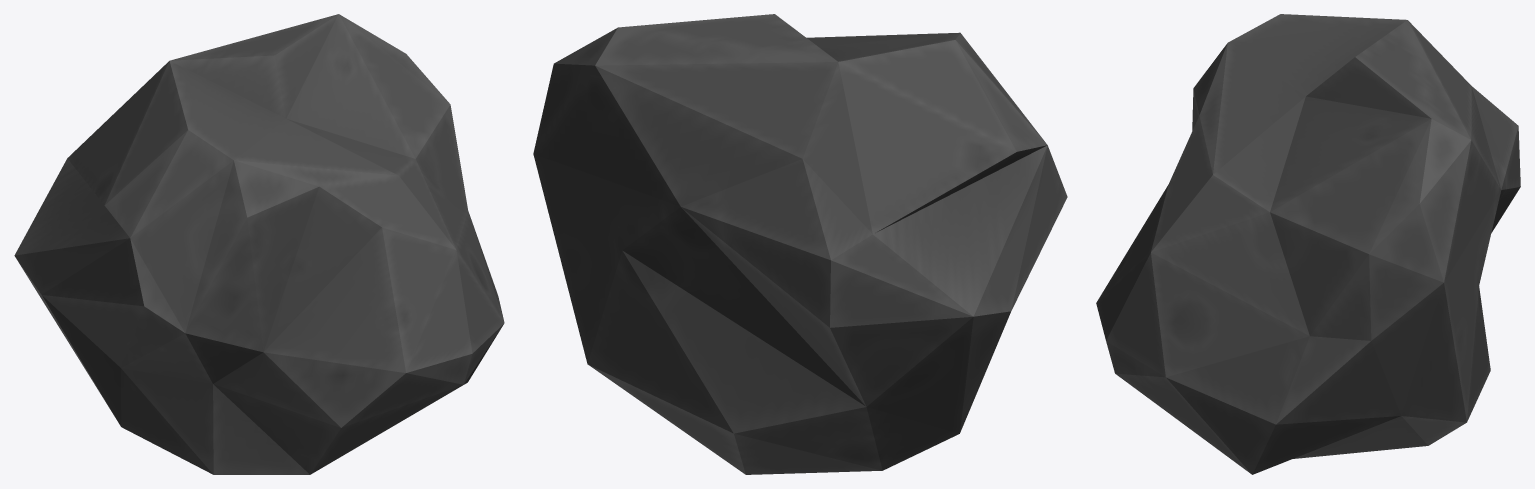
The model's file is asteroid6.glb.
The picture shows the model from 3 angles, left to right: view 1: azimuth 30°, elevation 25°; view 2: azimuth 150°, elevation 25°; view 3: azimuth 270°, elevation 25°; orthographic projection. The views are drawn at different scales.
Parts seen in each view (by area): view 1: Asteroids_Mesh.006; view 2: Asteroids_Mesh.006; view 3: Asteroids_Mesh.006.
Boxes of the visible parts, x1=… form: Asteroids_Mesh.006: x1=14, y1=14, x2=504, y2=474; Asteroids_Mesh.006: x1=533, y1=14, x2=1067, y2=474; Asteroids_Mesh.006: x1=1096, y1=14, x2=1520, y2=474.
Size of the model in its own units: 1.47 by 1.36 by 1.26.
Materials: 1 (1 with a texture image).
